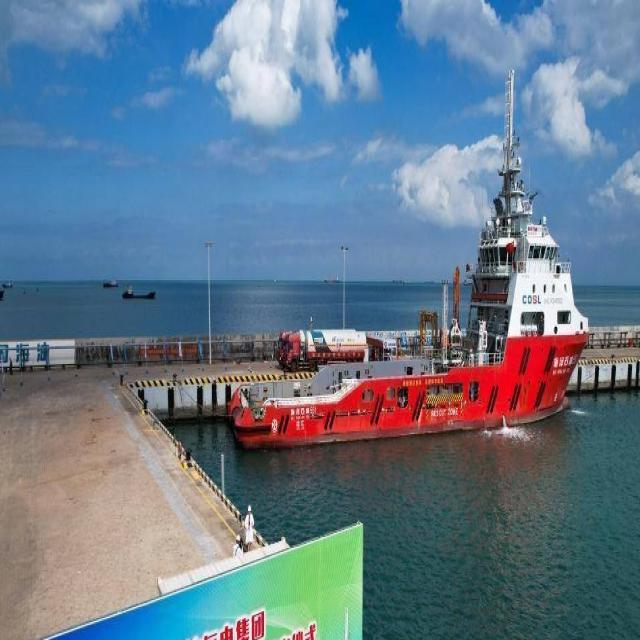cargoship: (234, 157, 577, 453)
